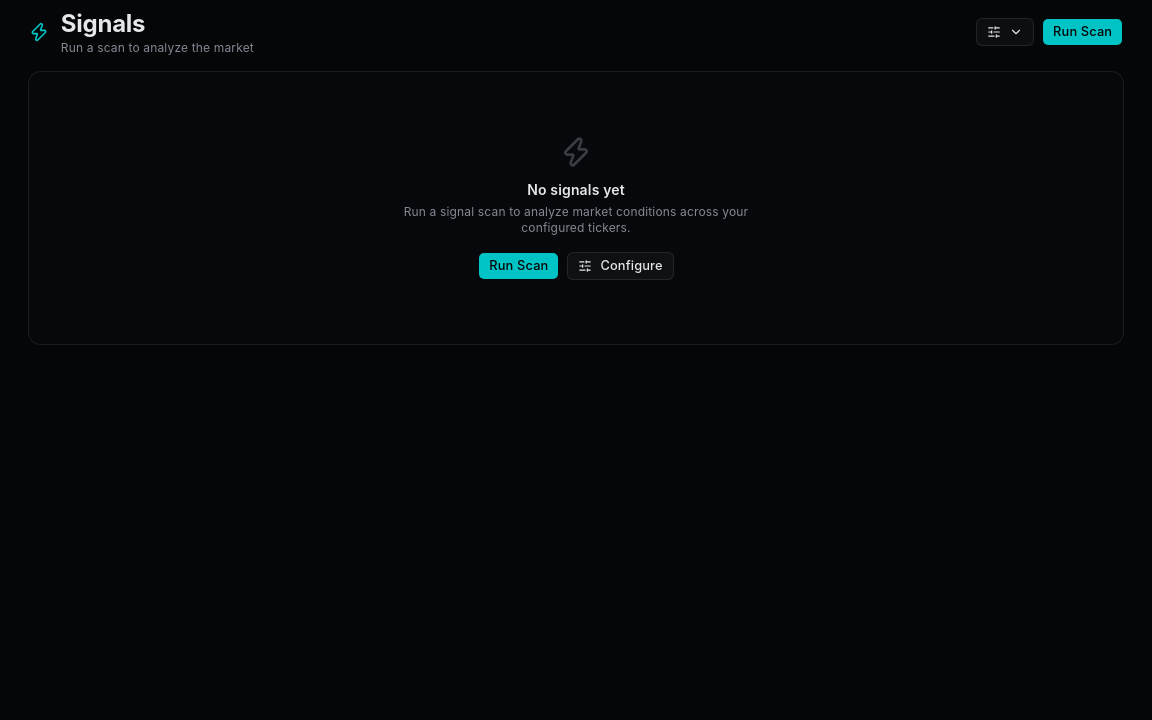
Scenario: SignalsPage › caps live scans to 5 tickers and warns when a larger universe is entered
The image size is (1152, 720).
Click the 1st button at (1005, 32), box [976, 18, 1034, 46]
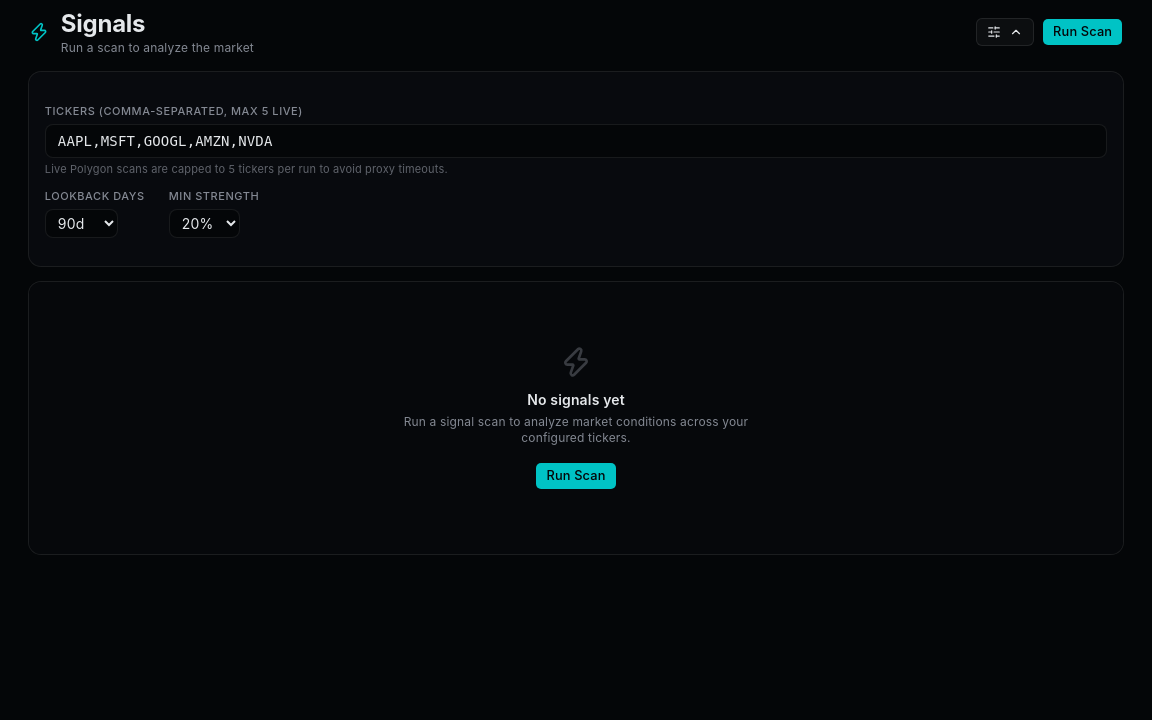
Type "AAPL,MSFT,GOOGL,AMZN,NVDA,TSLA" into the field at (576, 141), box [45, 124, 1107, 158]
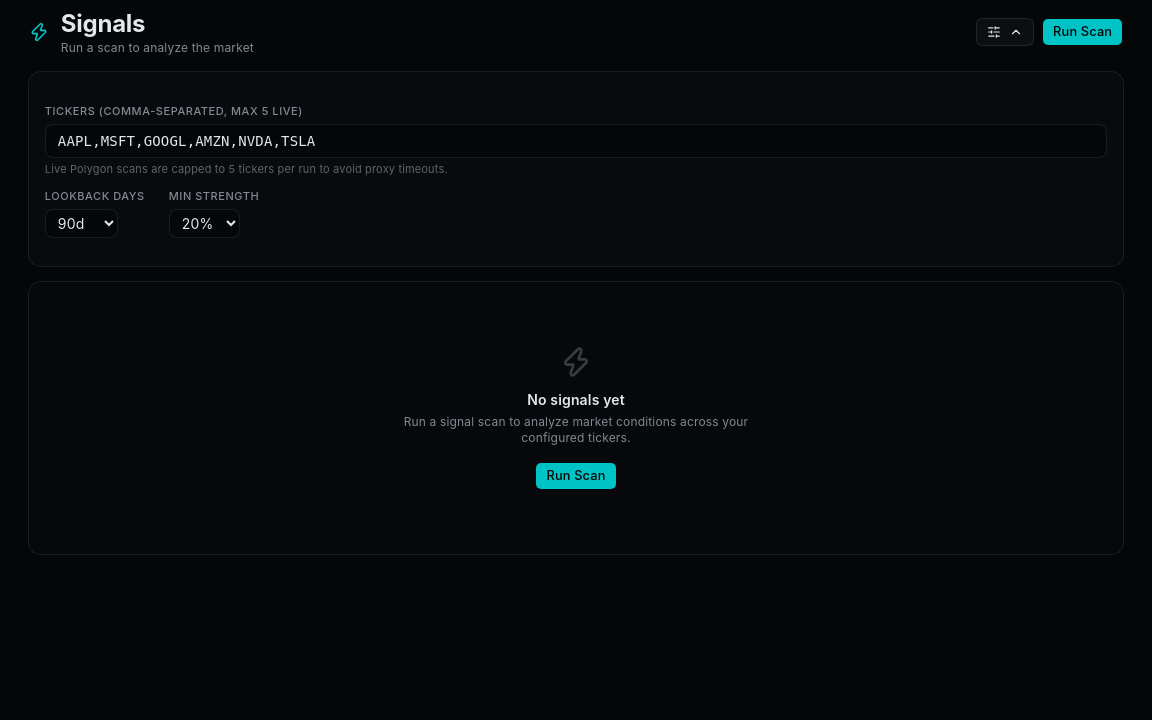
Click the button "Run Scan" in the row of "Run a scan to analyze the market" at (1083, 32), box [1042, 18, 1123, 46]
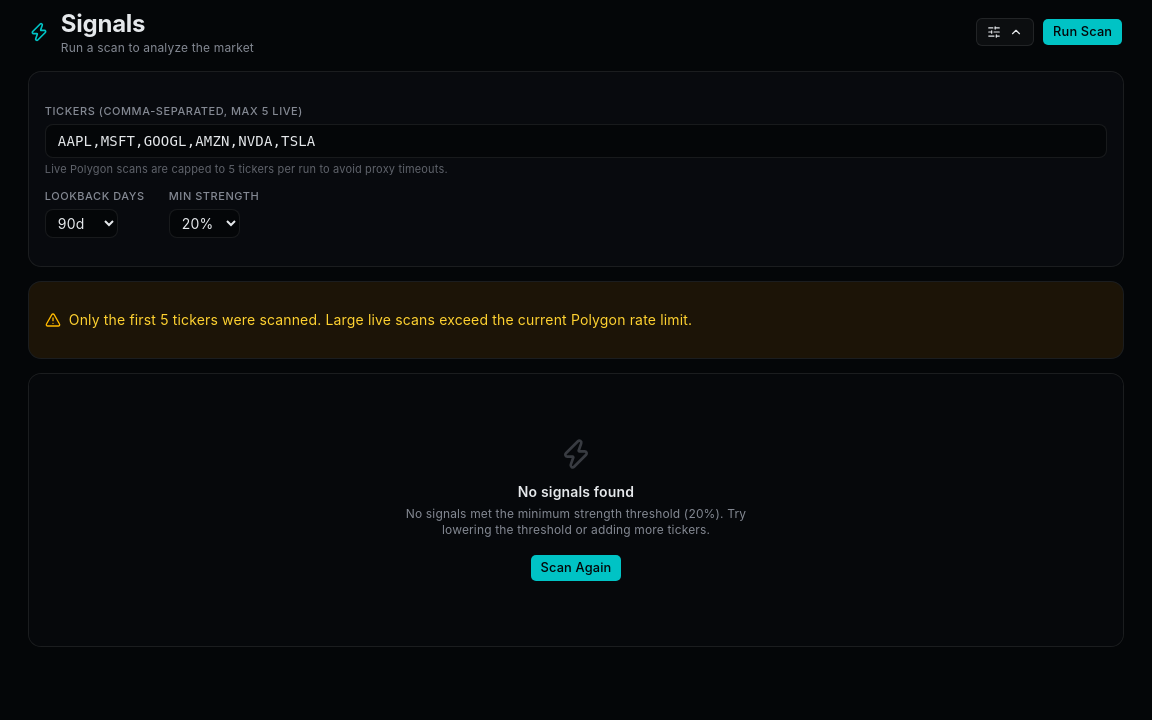
Expected: the text "Only the first 5 tickers were scanned" is shown, [69, 311, 692, 328]
